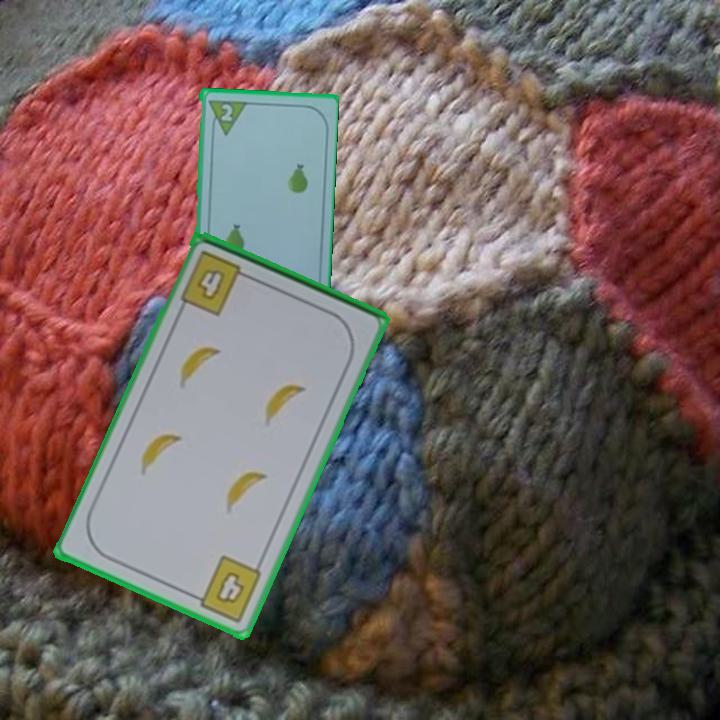2p: (216, 100, 235, 124)
4b: (186, 552, 265, 626), (177, 247, 255, 319)
